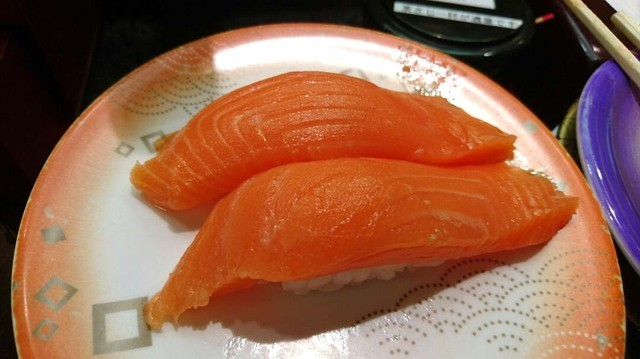salmon: (147, 168, 585, 310), (151, 75, 517, 165)
